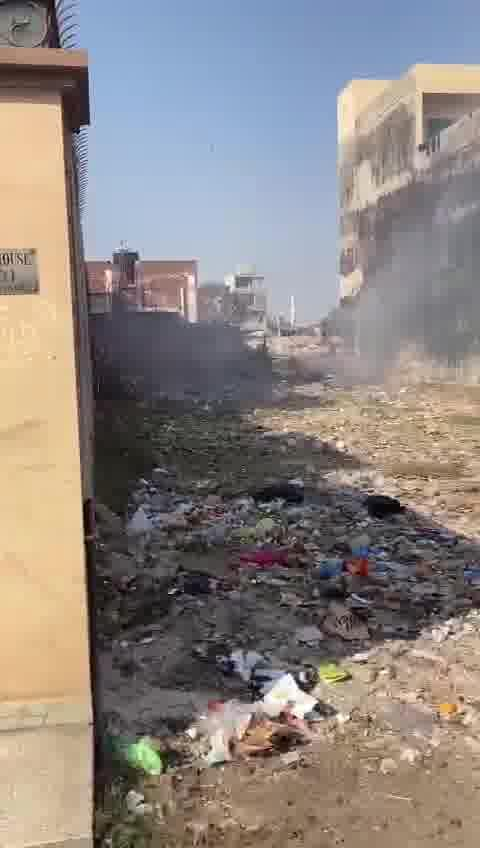garbage: (101, 402, 480, 786)
